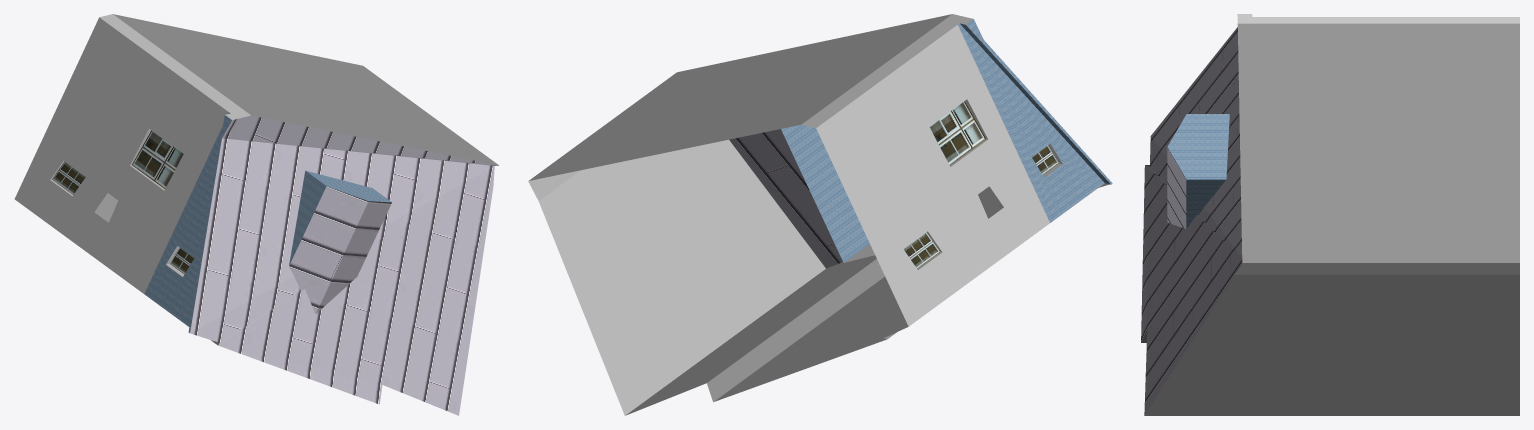
The model's file is Lai_36_a1-origo.obj.
The picture shows the model from 3 angles, left to right: view 1: azimuth 30°, elevation 25°; view 2: azimuth 150°, elevation 25°; view 3: azimuth 270°, elevation 25°; orthographic projection. The views are drawn at different scales.
Parts seen in each view (by area): view 1: Lai_36_a1; view 2: Lai_36_a1; view 3: Lai_36_a1.
Boxes of the visible parts, x1,y1,x2,y2 form: Lai_36_a1: (14, 14, 498, 415); Lai_36_a1: (528, 14, 1112, 415); Lai_36_a1: (1141, 14, 1519, 415).
Bounding box in the file's own units: 11.5 × 9.5 × 10.46.
